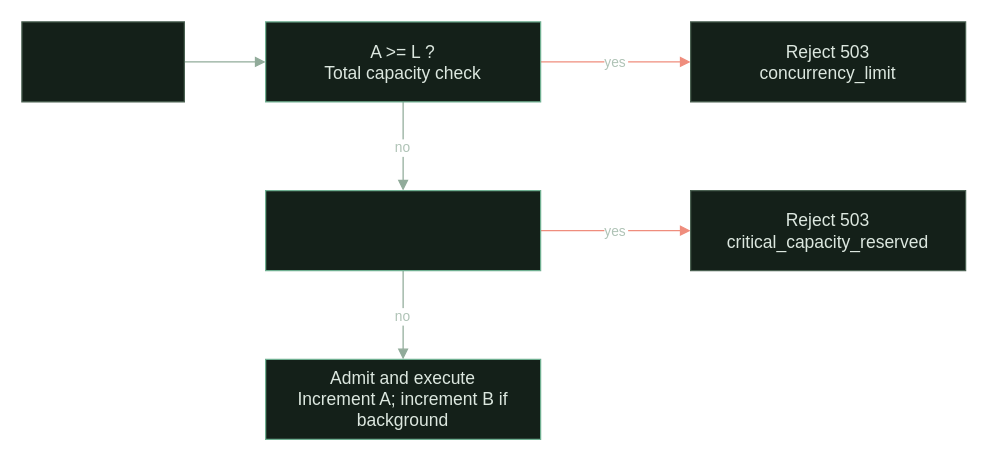
The diagram is 988 pixels wide and 461 high, and some of its shapes have lost their labels. Here are the shapes that lost their labels. From the top down, the centre of each, then its label:
(102,61): Request Priority assigned
(402,230): Background quota full? background AND B >= L - R
